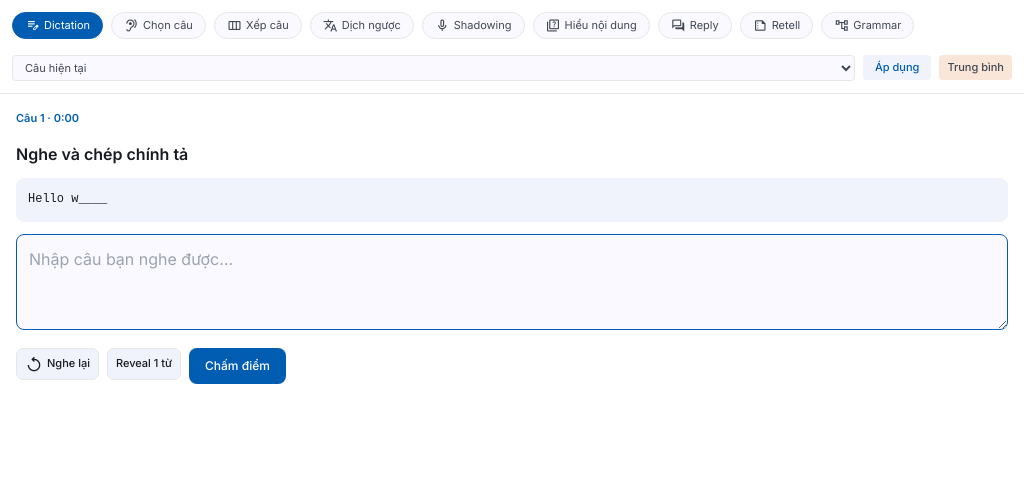
Test case: VideoPracticePanel › scores normalized dictation and records a detailed attempt
The width and height of the screenshot is (1024, 487).
In the text box with placeholder "Nhập câu bạn nghe được…": (512, 282) [16,234,1008,330], type "hello WORLD!"
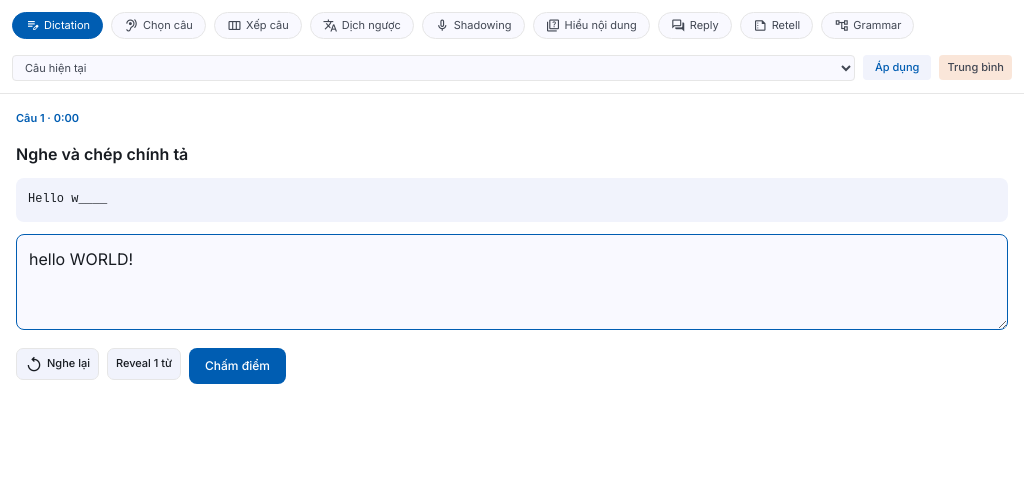
Click the button "Chấm điểm": click(237, 366) [189,348,286,384]
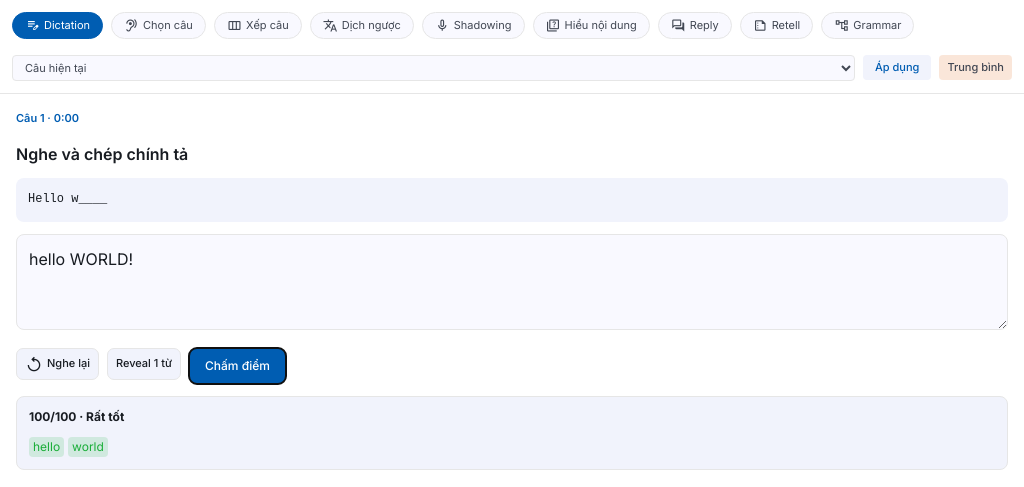
Now the text "100/100 · Rất tốt" is shown, box [29,408,124,424]
